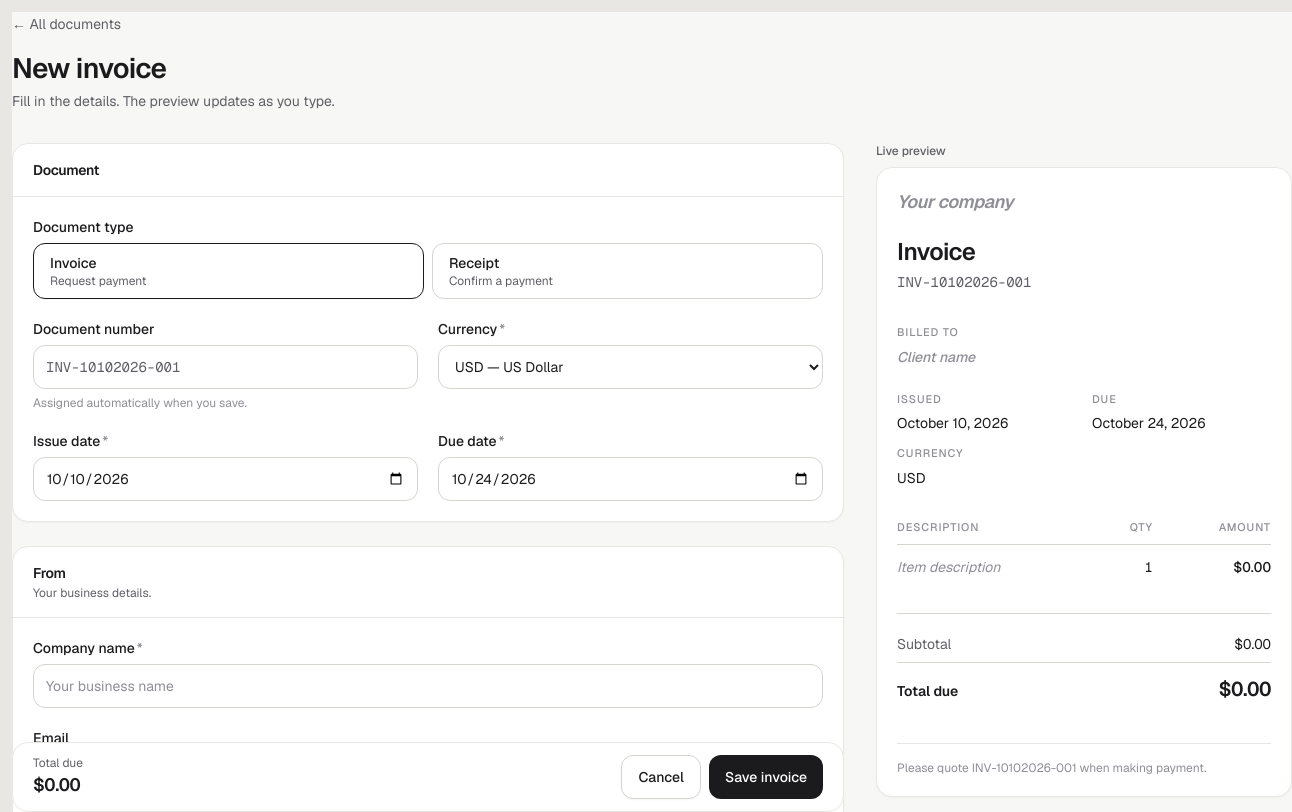
Test case: InvoiceForm: validation › on a rejected save shows every problem, focuses the first and saves nothing
The image size is (1292, 812).
What coordinates should you click on to do the following:
click the button "Save invoice"
I would click on:
 (766, 777)
Its box is top-left (709, 755), bottom-right (823, 799).
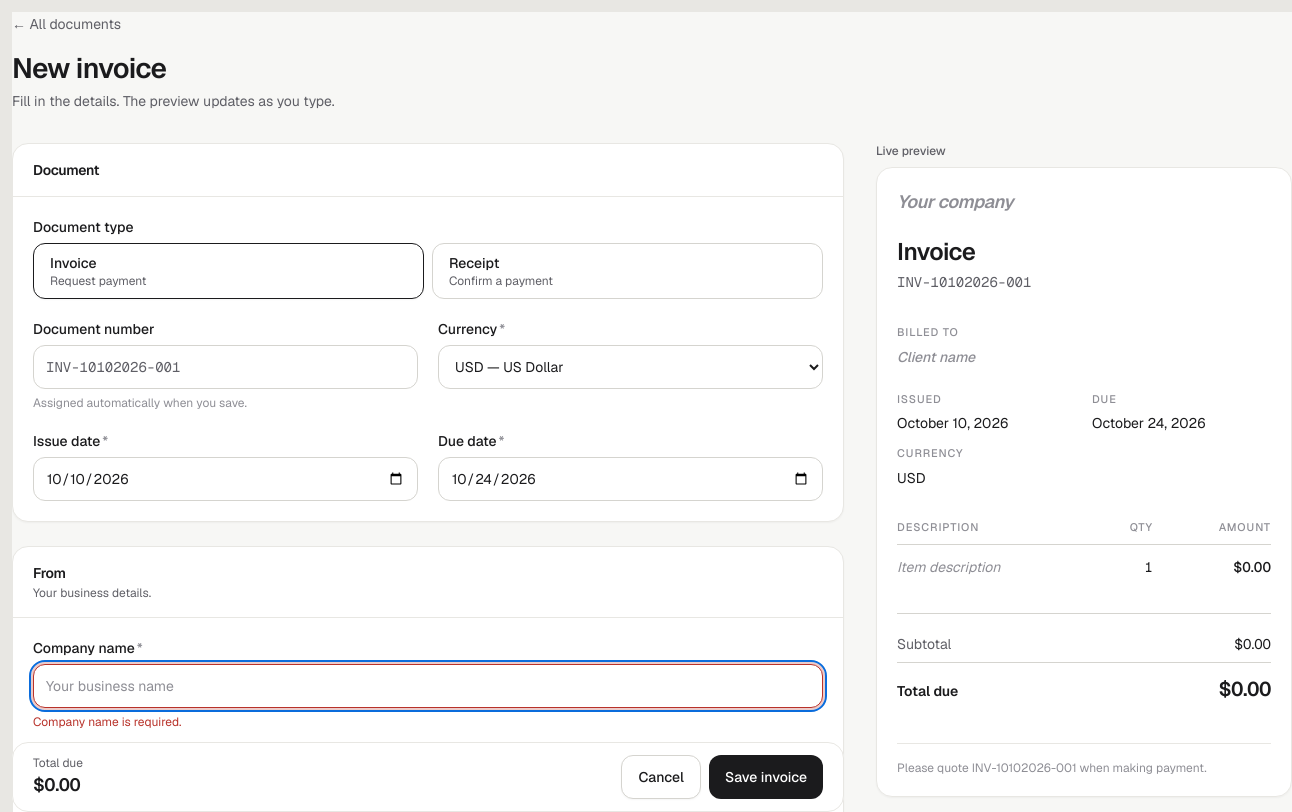
Now the text "Company name is required." is shown, box top-left (33, 714), bottom-right (182, 730)
